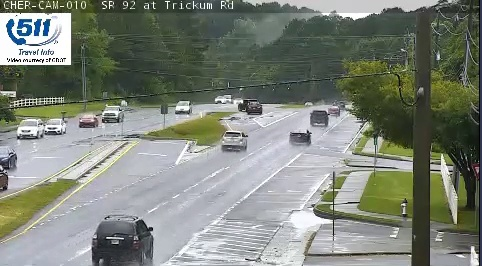car: (93, 215, 154, 257), (222, 130, 248, 147), (289, 129, 311, 143), (309, 110, 328, 125)
